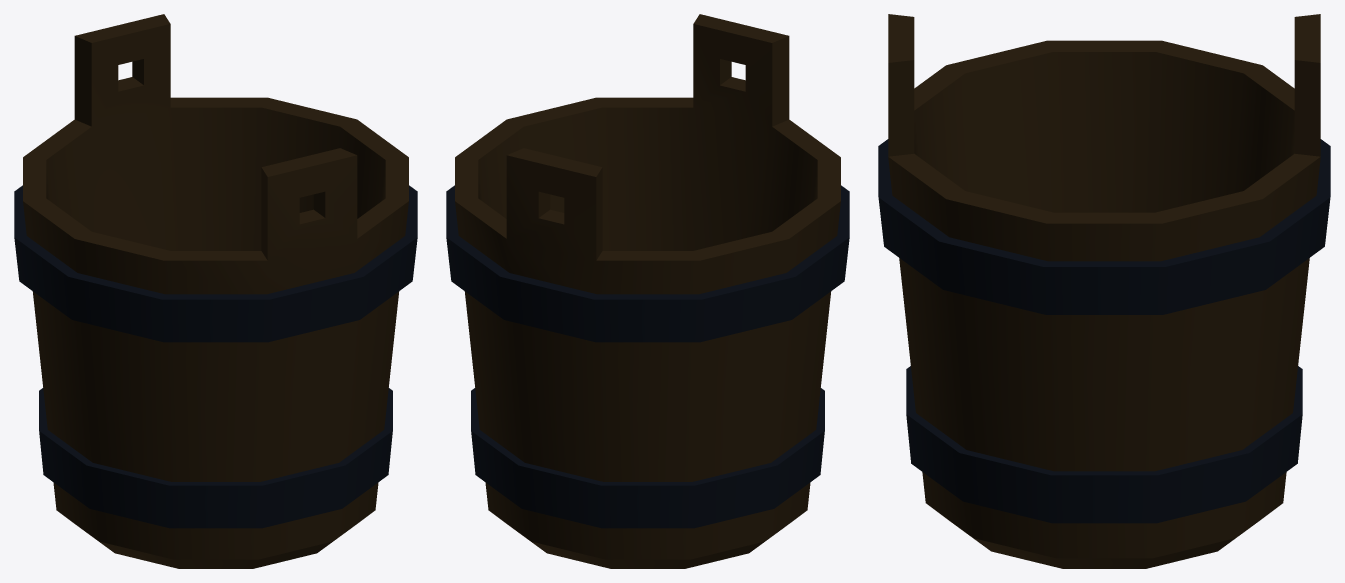
Rendered from bucket_broken_bucket.fbx.
3 views of the same model, side by side, from view 1: azimuth 30°, elevation 25°; view 2: azimuth 150°, elevation 25°; view 3: azimuth 270°, elevation 25° (orthographic). The views are drawn at different scales.
Visible parts, largest first — view 1: Bucket; view 2: Bucket; view 3: Bucket.
Part boxes in pixels (x1,y1,x2,y2): Bucket: [14, 14, 417, 568]; Bucket: [446, 14, 849, 568]; Bucket: [878, 14, 1330, 568].
Size of the model in its own units: 48.09 by 54.59 by 48.09.
